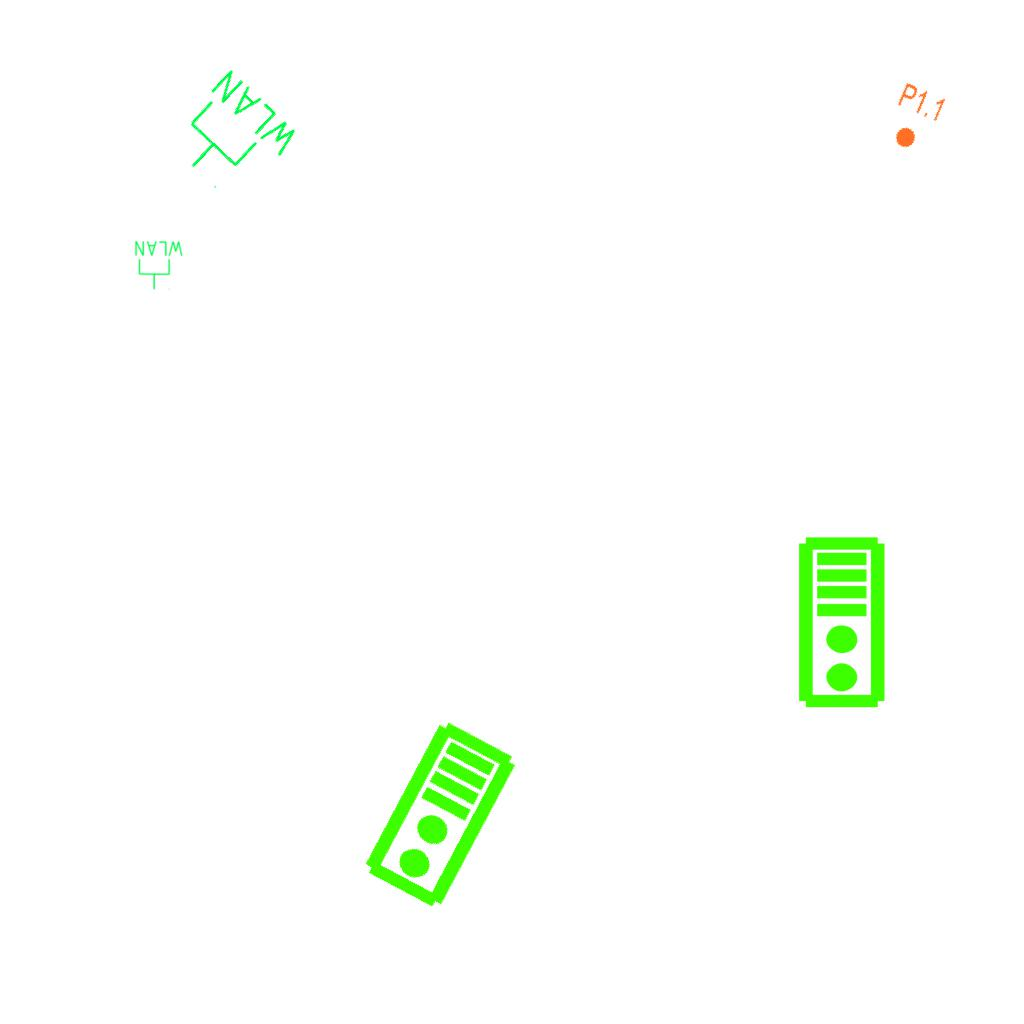Downlight_LED_Einbauleuchten_Flur: (881, 80, 949, 158)
Gegensprechanlage_mit_Video: (358, 716, 525, 916), (796, 535, 891, 711)
WLAN: (159, 63, 307, 212), (133, 239, 185, 291)
